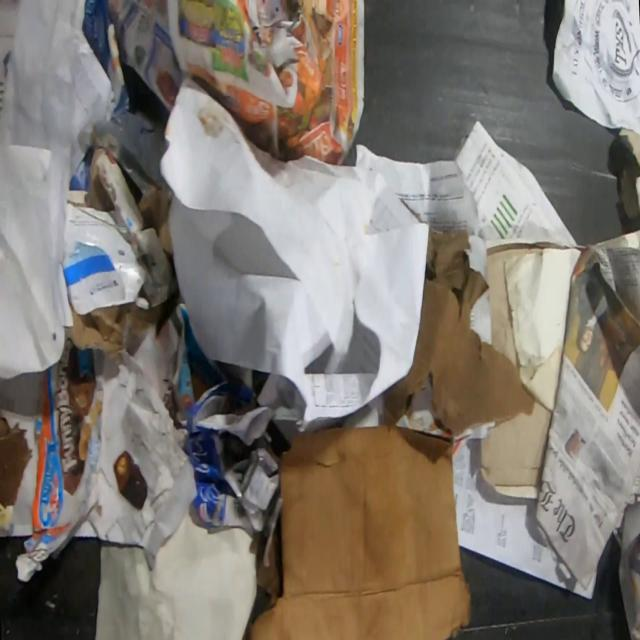cardboard: (247, 424, 472, 639), (380, 227, 534, 439), (54, 150, 179, 366), (0, 338, 109, 584), (174, 369, 282, 541), (478, 397, 554, 501), (82, 0, 125, 104), (618, 128, 640, 222), (190, 367, 212, 403)
rigid_plastic: (91, 84, 170, 198)
